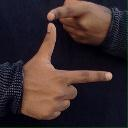hand: (20, 22, 112, 120), (46, 0, 112, 45)
